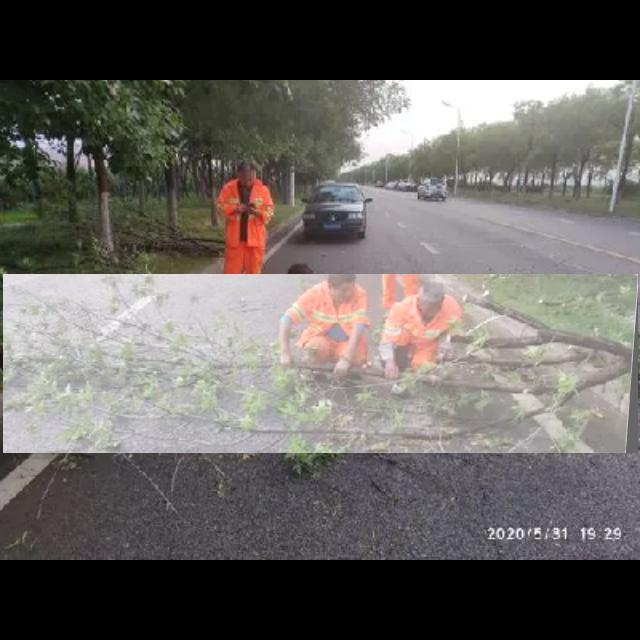fallen_tree: (3, 274, 639, 454)
